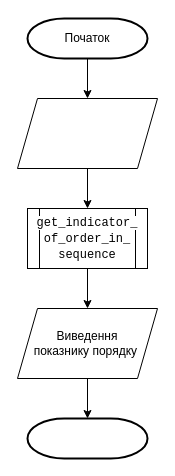
The diagram is 175 pixels wide and 476 high, and some of its shapes have lost their labels. The shapes that lost their labels are listed below. From the top down, each one's centre as x and y in pixels, then its label:
At (x=87, y=133): "Введення кількості елементів у послідовності".
At (x=87, y=438): "Кінець".
